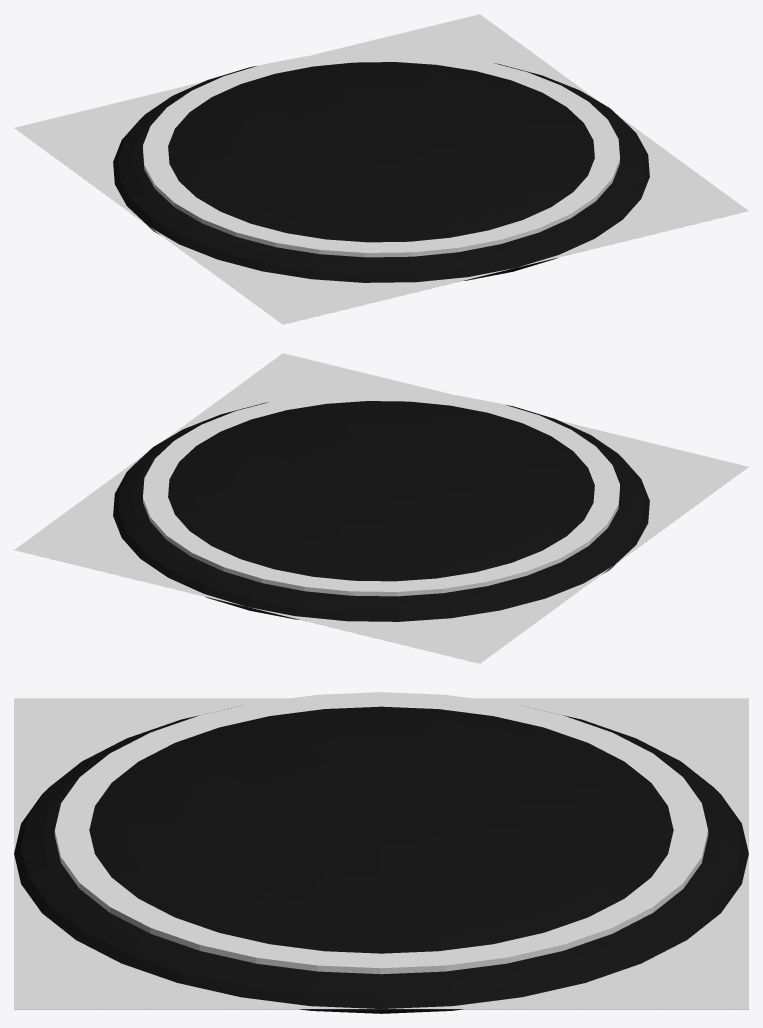
File: singleObjectForest_1cm4cmCone_12cmHex_10000wn_inverted.dae
3 renders of one model, top to bottom at view 1: azimuth 30°, elevation 25°; view 2: azimuth 150°, elevation 25°; view 3: azimuth 270°, elevation 25°, orthographic. The views are drawn at different scales.
Visible parts, largest first — view 1: Sphere, _Plane_p_, _cylinder_pic_; view 2: Sphere, _Plane_p_, _cylinder_pic_; view 3: Sphere, _Plane_p_, _cylinder_pic_, Plane.
Boxes of the visible parts, x1=… form: Sphere: x1=113, y1=62, x2=649, y2=282; _Plane_p_: x1=14, y1=14, x2=748, y2=324; _cylinder_pic_: x1=143, y1=51, x2=619, y2=257; Sphere: x1=113, y1=401, x2=649, y2=621; _Plane_p_: x1=14, y1=353, x2=748, y2=663; _cylinder_pic_: x1=143, y1=390, x2=619, y2=596; Sphere: x1=14, y1=706, x2=748, y2=1013; _Plane_p_: x1=14, y1=698, x2=748, y2=1008; _cylinder_pic_: x1=54, y1=692, x2=708, y2=974; Plane: x1=14, y1=1009, x2=748, y2=1009.
Size of the model in its own units: 1350 by 1350 by 160.
3 materials, 1 textured.
